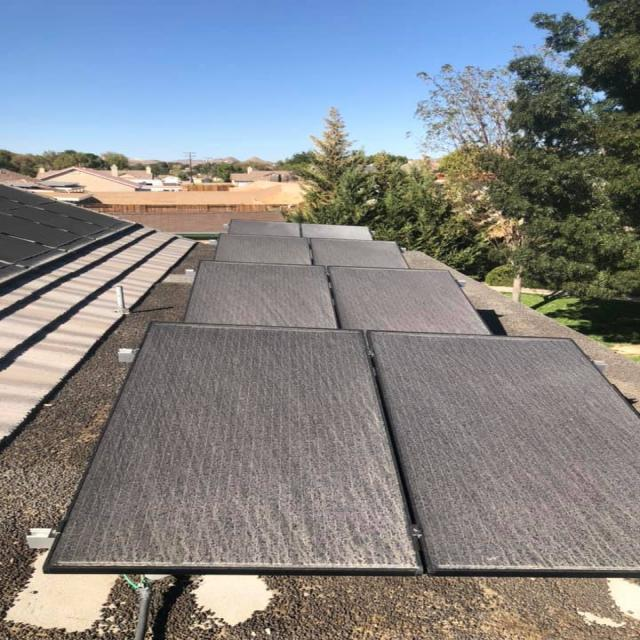dust-solar-panel: (52, 323, 640, 577), (182, 257, 492, 337)
